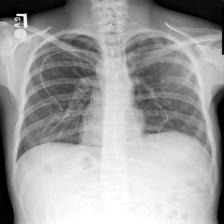normal: (13, 29, 216, 162)
